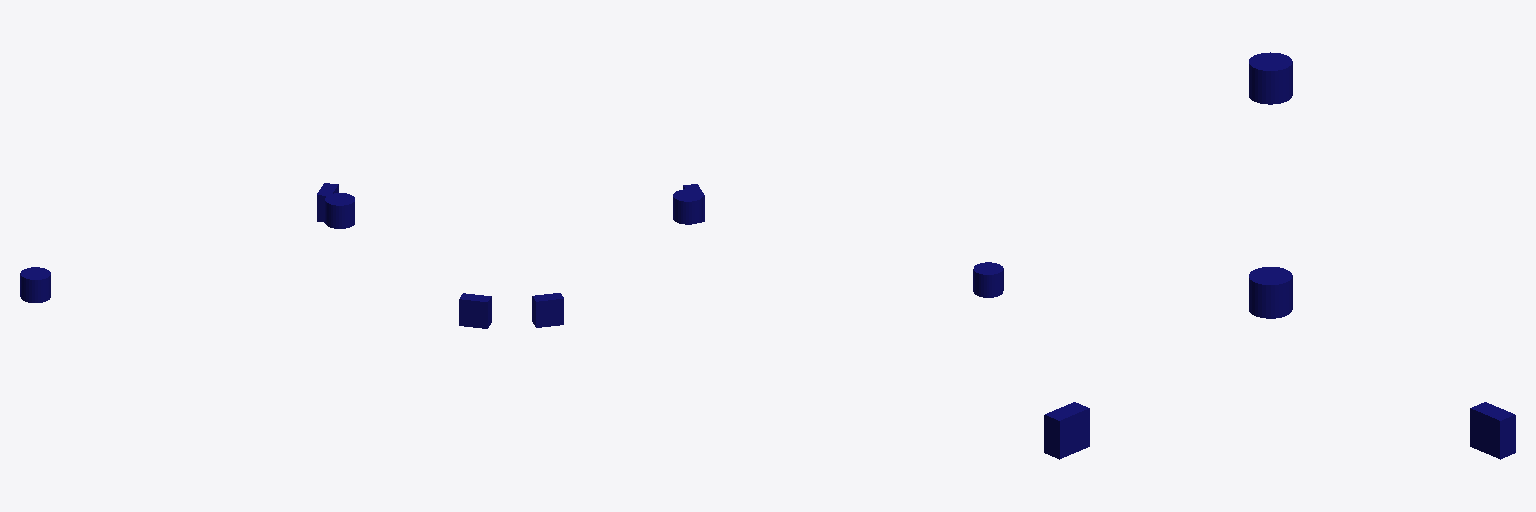
The robot description file, URDF, robot "lexus_rx_450h":
<?xml version="1.0" ?>
<!-- TODO: Add GPS sensor -->
<robot name="lexus_rx_450h">
  <material name="black">
    <color rgba="0.2 0.2 0.2 1"/>
  </material>
  <material name="blue">
    <color rgba="0.1 0.1 0.5 1"/>
  </material>

  <!-- base_link relates to its projection on the ground by this offset:
    <origin xyz="0 0 0.31" rpy="0 0 0"/>
  -->


  <link name="base_link">
    <visual>
      <geometry>
        <mesh filename="package://lexus_rx_450h_description/meshes/LexusRX.obj" scale="0.001 0.001 0.001"/>
      </geometry>
      <material name="black"/>
      <origin xyz="0.83 0 0.31" rpy="0 0 1.570796"/>
    </visual>
    <collision>
      <geometry>
        <box size="5.5 2.25 2"/>
      </geometry>
      <origin xyz="0.83 0 0.31" rpy="0 0 0"/>
    </collision>
    <inertial>
      <!-- TODO: Get or calculate inertia values -->
      <origin xyz="0 0 0.013" rpy="0 0 0"/>
      <mass value="0.25"/>
      <inertia ixx="0.0003350833" ixy="0" ixz="0"
        iyy="0.000560417" iyz="0"
        izz="0.000478833"/>
    </inertial>
  </link>

  <!-- Center of Gravity link -->
  <link name="nav_base"/>

  <joint name="nav_base_joint" type="fixed">
    <parent link="base_link"/>
    <child link="nav_base"/>
    <origin xyz="1.5618 0 0" rpy="0 0 0"/>
  </joint>

  <link name="imu"/>

  <joint name="imu_joint" type="fixed">
    <parent link="base_link"/>
    <child link="imu"/>
    <origin xyz="0 0 0" rpy="0 0 0"/>
  </joint>

  <link name="gnss"/>

  <joint name="gnss_joint" type="fixed">
    <parent link="base_link"/>
    <child link="gnss"/>
    <origin xyz="0 0 0" rpy="0 0 0"/>
  </joint>

  <link name="lidar_front">
    <visual>
      <geometry>
        <cylinder length="0.0869" radius="0.05165"/>
      </geometry>
      <material name="blue"/>
    </visual>
    <collision>
      <geometry>
        <cylinder length="0.0869" radius="0.05165"/>
      </geometry>
    </collision>
    <inertial>
      <!-- TODO: Get or calculate inertia values -->
      <mass value="0.1"/>
      <inertia ixx="1.02083e-5" ixy="0" ixz="0"
        iyy="1.02083e-5" iyz="0"
        izz="2e-5"/>
    </inertial>
  </link>

  <joint name="lidar_front_joint" type="fixed">
    <parent link="base_link"/>
    <child link="lidar_front"/>
    <origin xyz="1.498 -0.022 1.49" rpy="0 0 0"/>
  </joint>

  <link name="lidar_rear">
    <visual>
      <geometry>
        <cylinder length="0.0869" radius="0.05165"/>
      </geometry>
      <material name="blue"/>
    </visual>
    <collision>
      <geometry>
        <cylinder length="0.0869" radius="0.05165"/>
      </geometry>
    </collision>
    <inertial>
      <!-- TODO: Get or calculate inertia values -->
      <mass value="0.1"/>
      <inertia ixx="1.02083e-5" ixy="0" ixz="0"
        iyy="1.02083e-5" iyz="0"
        izz="2e-5"/>
    </inertial>
  </link>

  <joint name="lidar_rear_joint" type="fixed">
    <parent link="base_link"/>
    <child link="lidar_rear"/>
    <origin xyz="0.308 -0.022 1.49" rpy="0 0 0"/>
  </joint>

  <link name="camera_right">
    <visual>
      <geometry>
        <box size="0.05 0.1 0.1"/>
      </geometry>
      <material name="blue"/>
    </visual>
    <collision>
      <geometry>
        <box size="0.05 0.1 0.1"/>
      </geometry>
    </collision>
    <inertial>
      <!-- TODO: Get or calculate inertia values -->
      <mass value="0.1"/>
      <inertia ixx="1.02083e-5" ixy="0" ixz="0"
        iyy="1.02083e-5" iyz="0"
        izz="2e-5"/>
    </inertial>
  </link>

  <joint name="camera_right_joint" type="fixed">
    <parent link="base_link"/>
    <child link="camera_right"/>
    <origin xyz="1.75 -0.5 1.25" rpy="-1.571 0 -2.356194"/>
  </joint>

  <link name="camera_left">
    <visual>
      <geometry>
        <box size="0.05 0.1 0.1"/>
      </geometry>
      <material name="blue"/>
    </visual>
    <collision>
      <geometry>
        <box size="0.05 0.1 0.1"/>
      </geometry>
    </collision>
    <inertial>
      <!-- TODO: Get or calculate inertia values -->
      <mass value="0.1"/>
      <inertia ixx="1.02083e-5" ixy="0" ixz="0"
        iyy="1.02083e-5" iyz="0"
        izz="2e-5"/>
    </inertial>
  </link>

  <joint name="camera_left_joint" type="fixed">
    <parent link="base_link"/>
    <child link="camera_left"/>
    <!--origin xyz="1.75 0.5 1.25" rpy="-1.571 0 -2.356194"/-->
    <origin xyz="1.75 0.5 1.25" rpy="-1.571 0 -0.78539"/>
  </joint>
</robot>

--- Facts derived from the render (not from the file) ---
Views: 3 orthographic renders of the robot side by side, from view 1: azimuth 30°, elevation 25°; view 2: azimuth 150°, elevation 25°; view 3: azimuth 270°, elevation 25°.
Robot: lexus_rx_450h — 8 links, 7 joints (7 fixed); root link base_link; default pose: all joints at 0.
Visible links, largest first — view 1: camera_right, lidar_rear, lidar_front; view 2: camera_left, lidar_rear, lidar_front; view 3: camera_right, camera_left, lidar_front, lidar_rear.
Link boxes in pixels (x1,y1,x2,y2): camera_right: [459, 293, 491, 328]; lidar_rear: [20, 267, 50, 302]; lidar_front: [325, 193, 354, 228]; camera_left: [532, 293, 563, 327]; lidar_rear: [973, 262, 1003, 297]; lidar_front: [673, 189, 702, 224]; camera_right: [1044, 402, 1089, 459]; camera_left: [1470, 402, 1515, 459]; lidar_front: [1249, 267, 1292, 318]; lidar_rear: [1249, 52, 1292, 104].
Bounding box of the posed robot: 1.55 × 1.11 × 0.3335 m (x, y, z).
Meshes: 1 distinct files referenced, 0 mesh visuals loaded (none loaded); not drawn: 1 (file found but could not be loaded).
